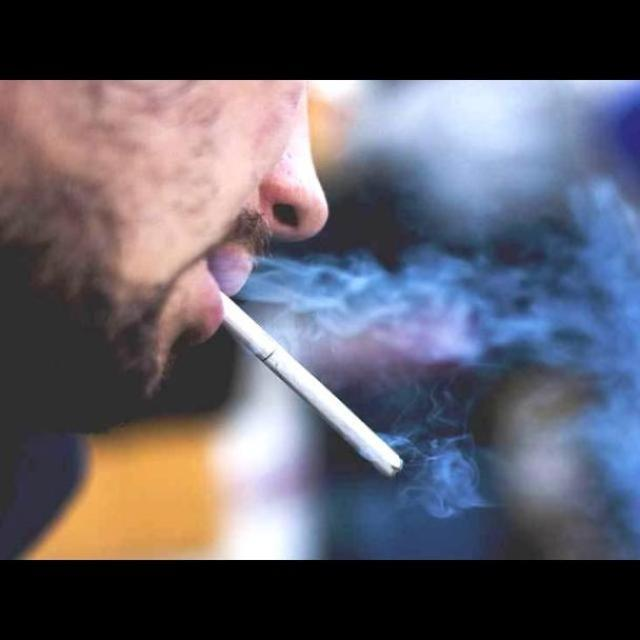rokok: (199, 246, 409, 477)
